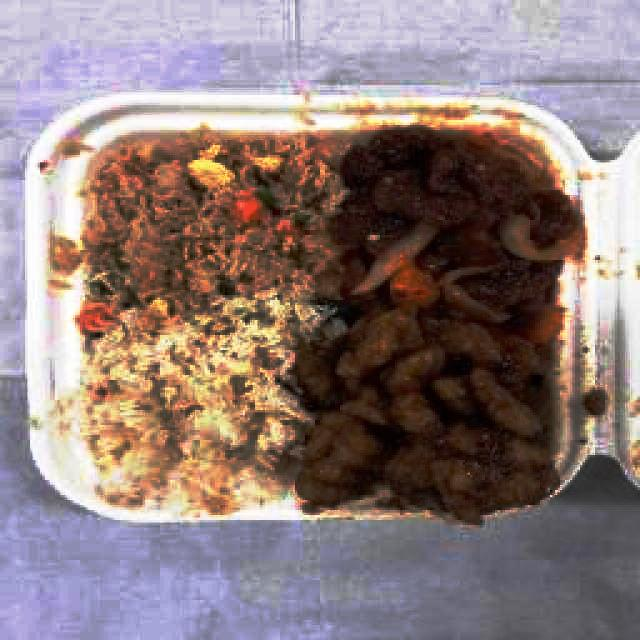Beijing Beef: (337, 135, 552, 286)
Fried Rice: (95, 148, 304, 300)
Kung Pao Chicken: (321, 320, 552, 496)
rice: (90, 314, 285, 477)
